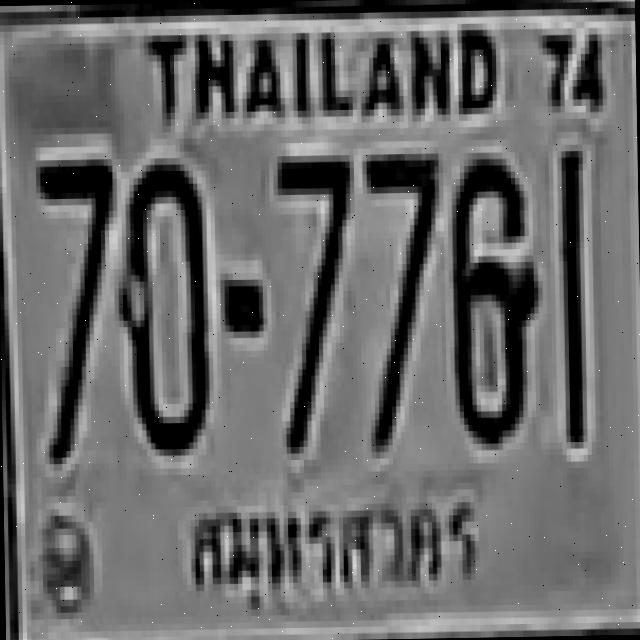0: (116, 158, 206, 450)
1: (556, 148, 582, 438)
6: (446, 154, 536, 440)
7: (35, 152, 112, 458), (272, 148, 350, 447), (362, 147, 438, 446), (362, 146, 438, 354), (36, 153, 110, 354)
SamutSakhon: (169, 484, 490, 612)
